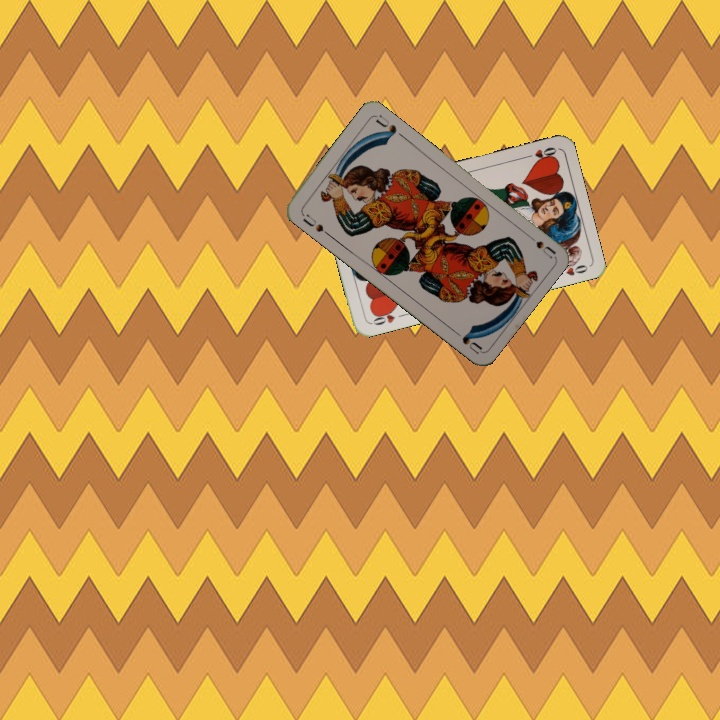HO: (367, 305, 407, 328), (519, 143, 559, 164)
SU: (521, 229, 557, 261), (299, 210, 332, 238)
